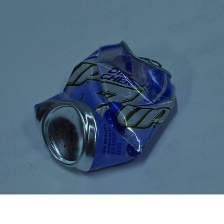can: (27, 36, 188, 176)
